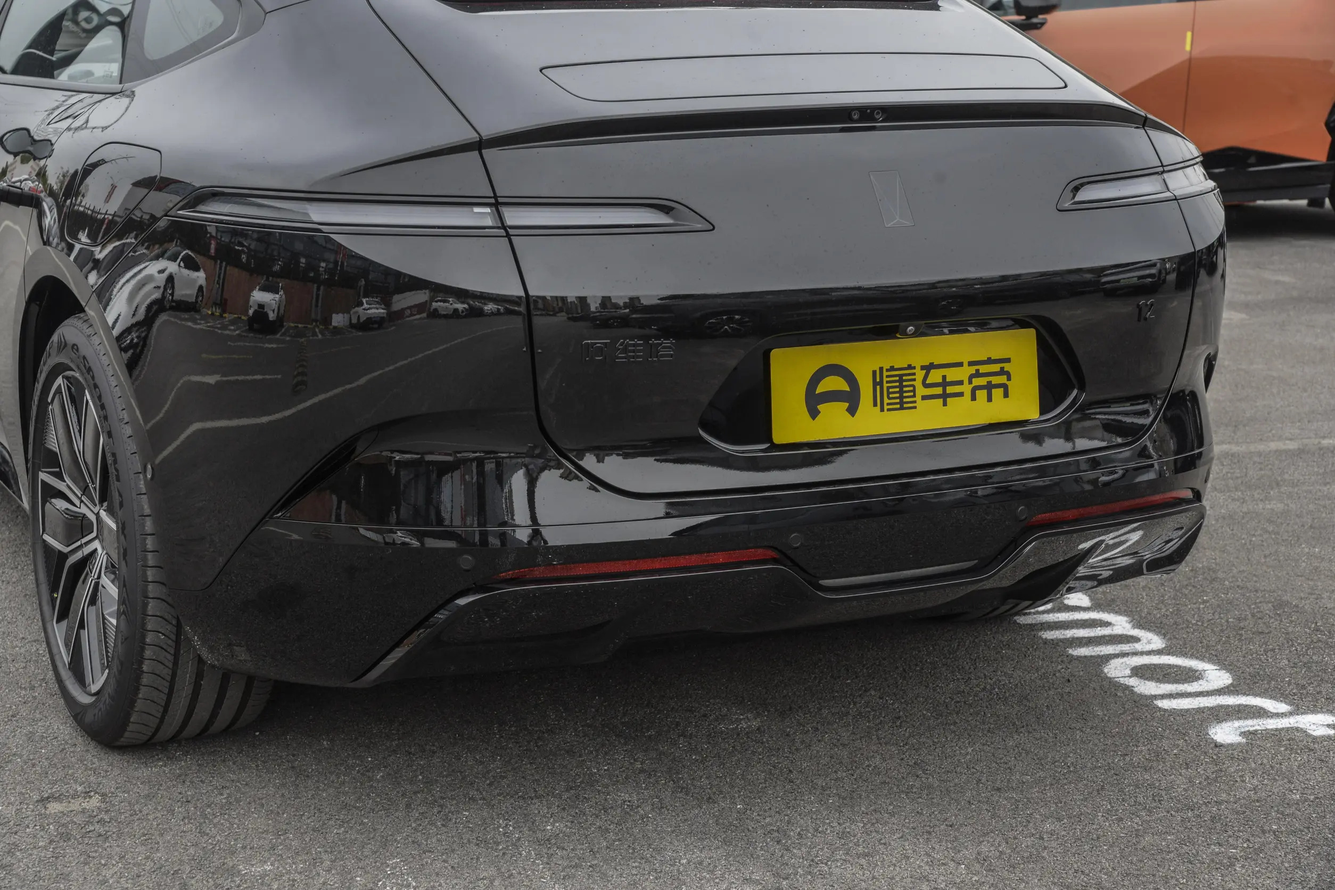AVATR: (869, 170, 914, 227)
